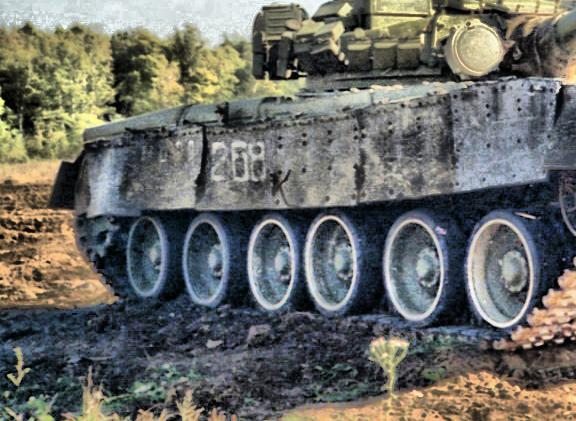tanks: (53, 1, 576, 350)
